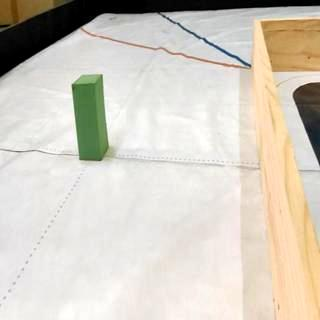greenbox: (72, 76, 108, 160)
